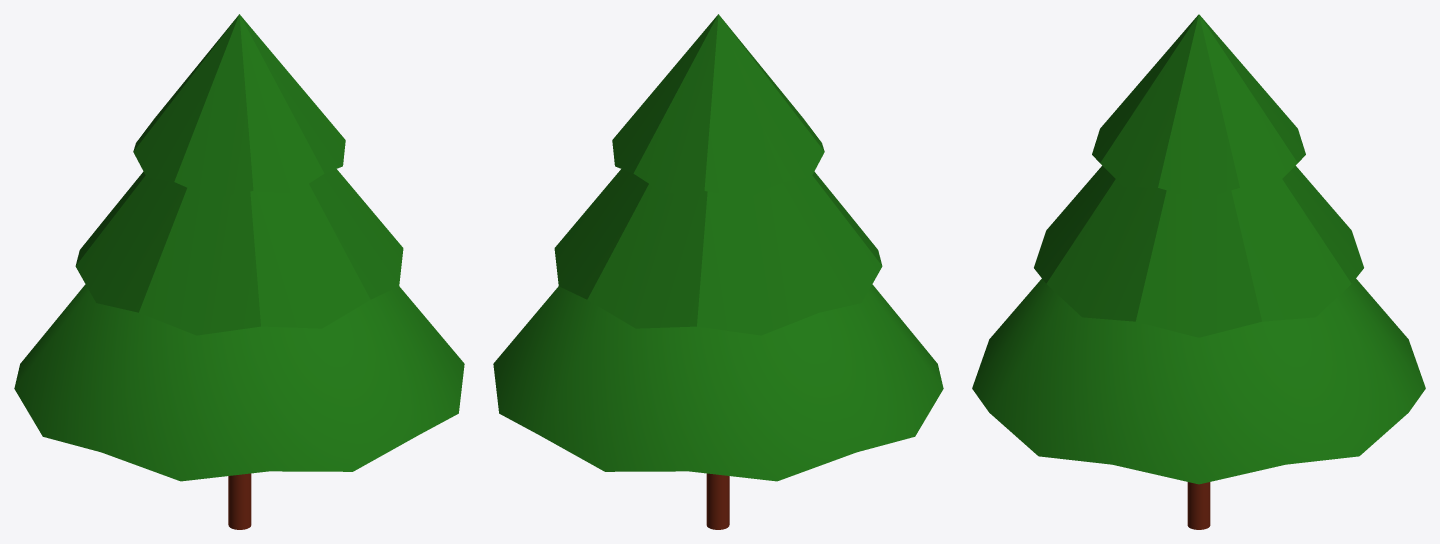
File: tree_toonlike.glb
3 views of the same model, side by side, from view 1: azimuth 30°, elevation 25°; view 2: azimuth 150°, elevation 25°; view 3: azimuth 270°, elevation 25° (orthographic).
Parts seen in each view (by area): view 1: Tree; view 2: Tree; view 3: Tree.
Part boxes in pixels (x1=…): Tree: x1=14, y1=14, x2=464, y2=529; Tree: x1=493, y1=14, x2=943, y2=529; Tree: x1=972, y1=14, x2=1425, y2=529.
Size of the model in its own units: 26.08 by 32.39 by 26.08.
